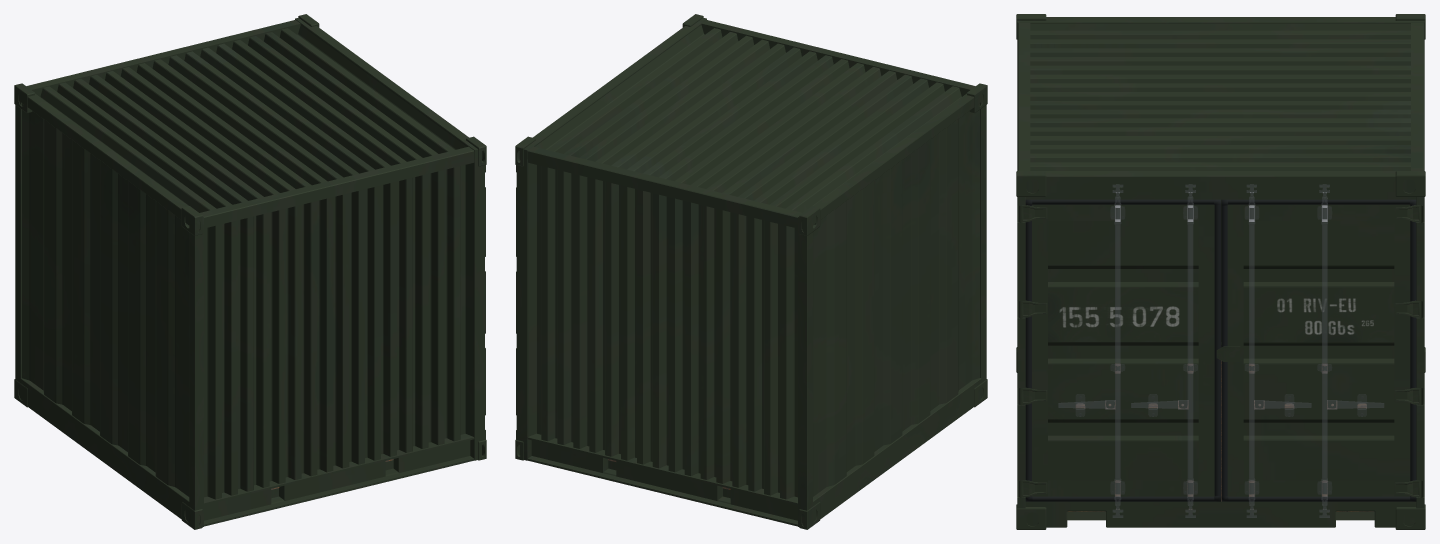
File: container.glb
The picture shows the model from 3 angles, left to right: view 1: azimuth 30°, elevation 25°; view 2: azimuth 150°, elevation 25°; view 3: azimuth 270°, elevation 25°; orthographic projection. The views are drawn at different scales.
Visible parts, largest first — view 1: container; view 2: container; view 3: container.
Part boxes in pixels (bbox=[...]): container: bbox=[14, 14, 486, 529]; container: bbox=[515, 14, 987, 529]; container: bbox=[1016, 14, 1425, 529].
Size of the model in its own units: 1.07 by 1.1 by 1.15.
Materials: 3 (3 with a texture image).
